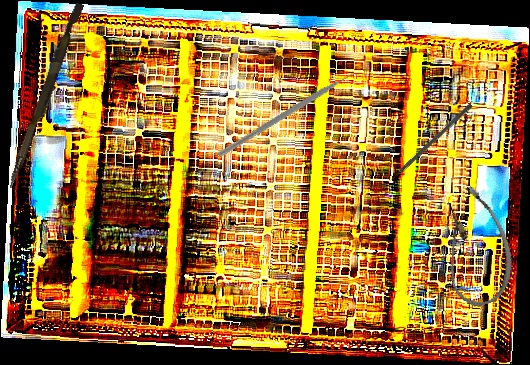Cannula: (424, 180, 525, 313)
Chopper: (217, 33, 367, 200)
Pusher: (6, 0, 85, 192), (381, 102, 474, 188)
